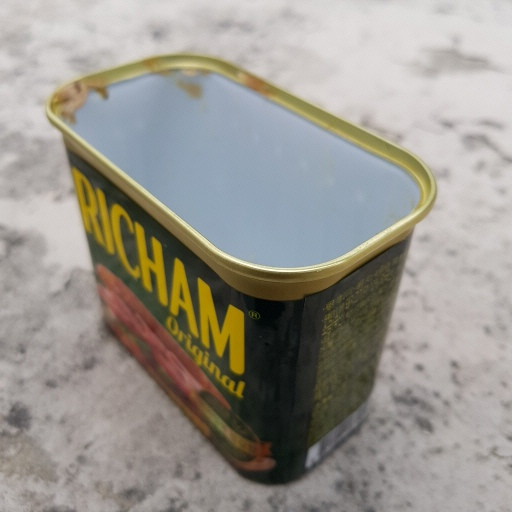Metal_2: (46, 46, 439, 488)
